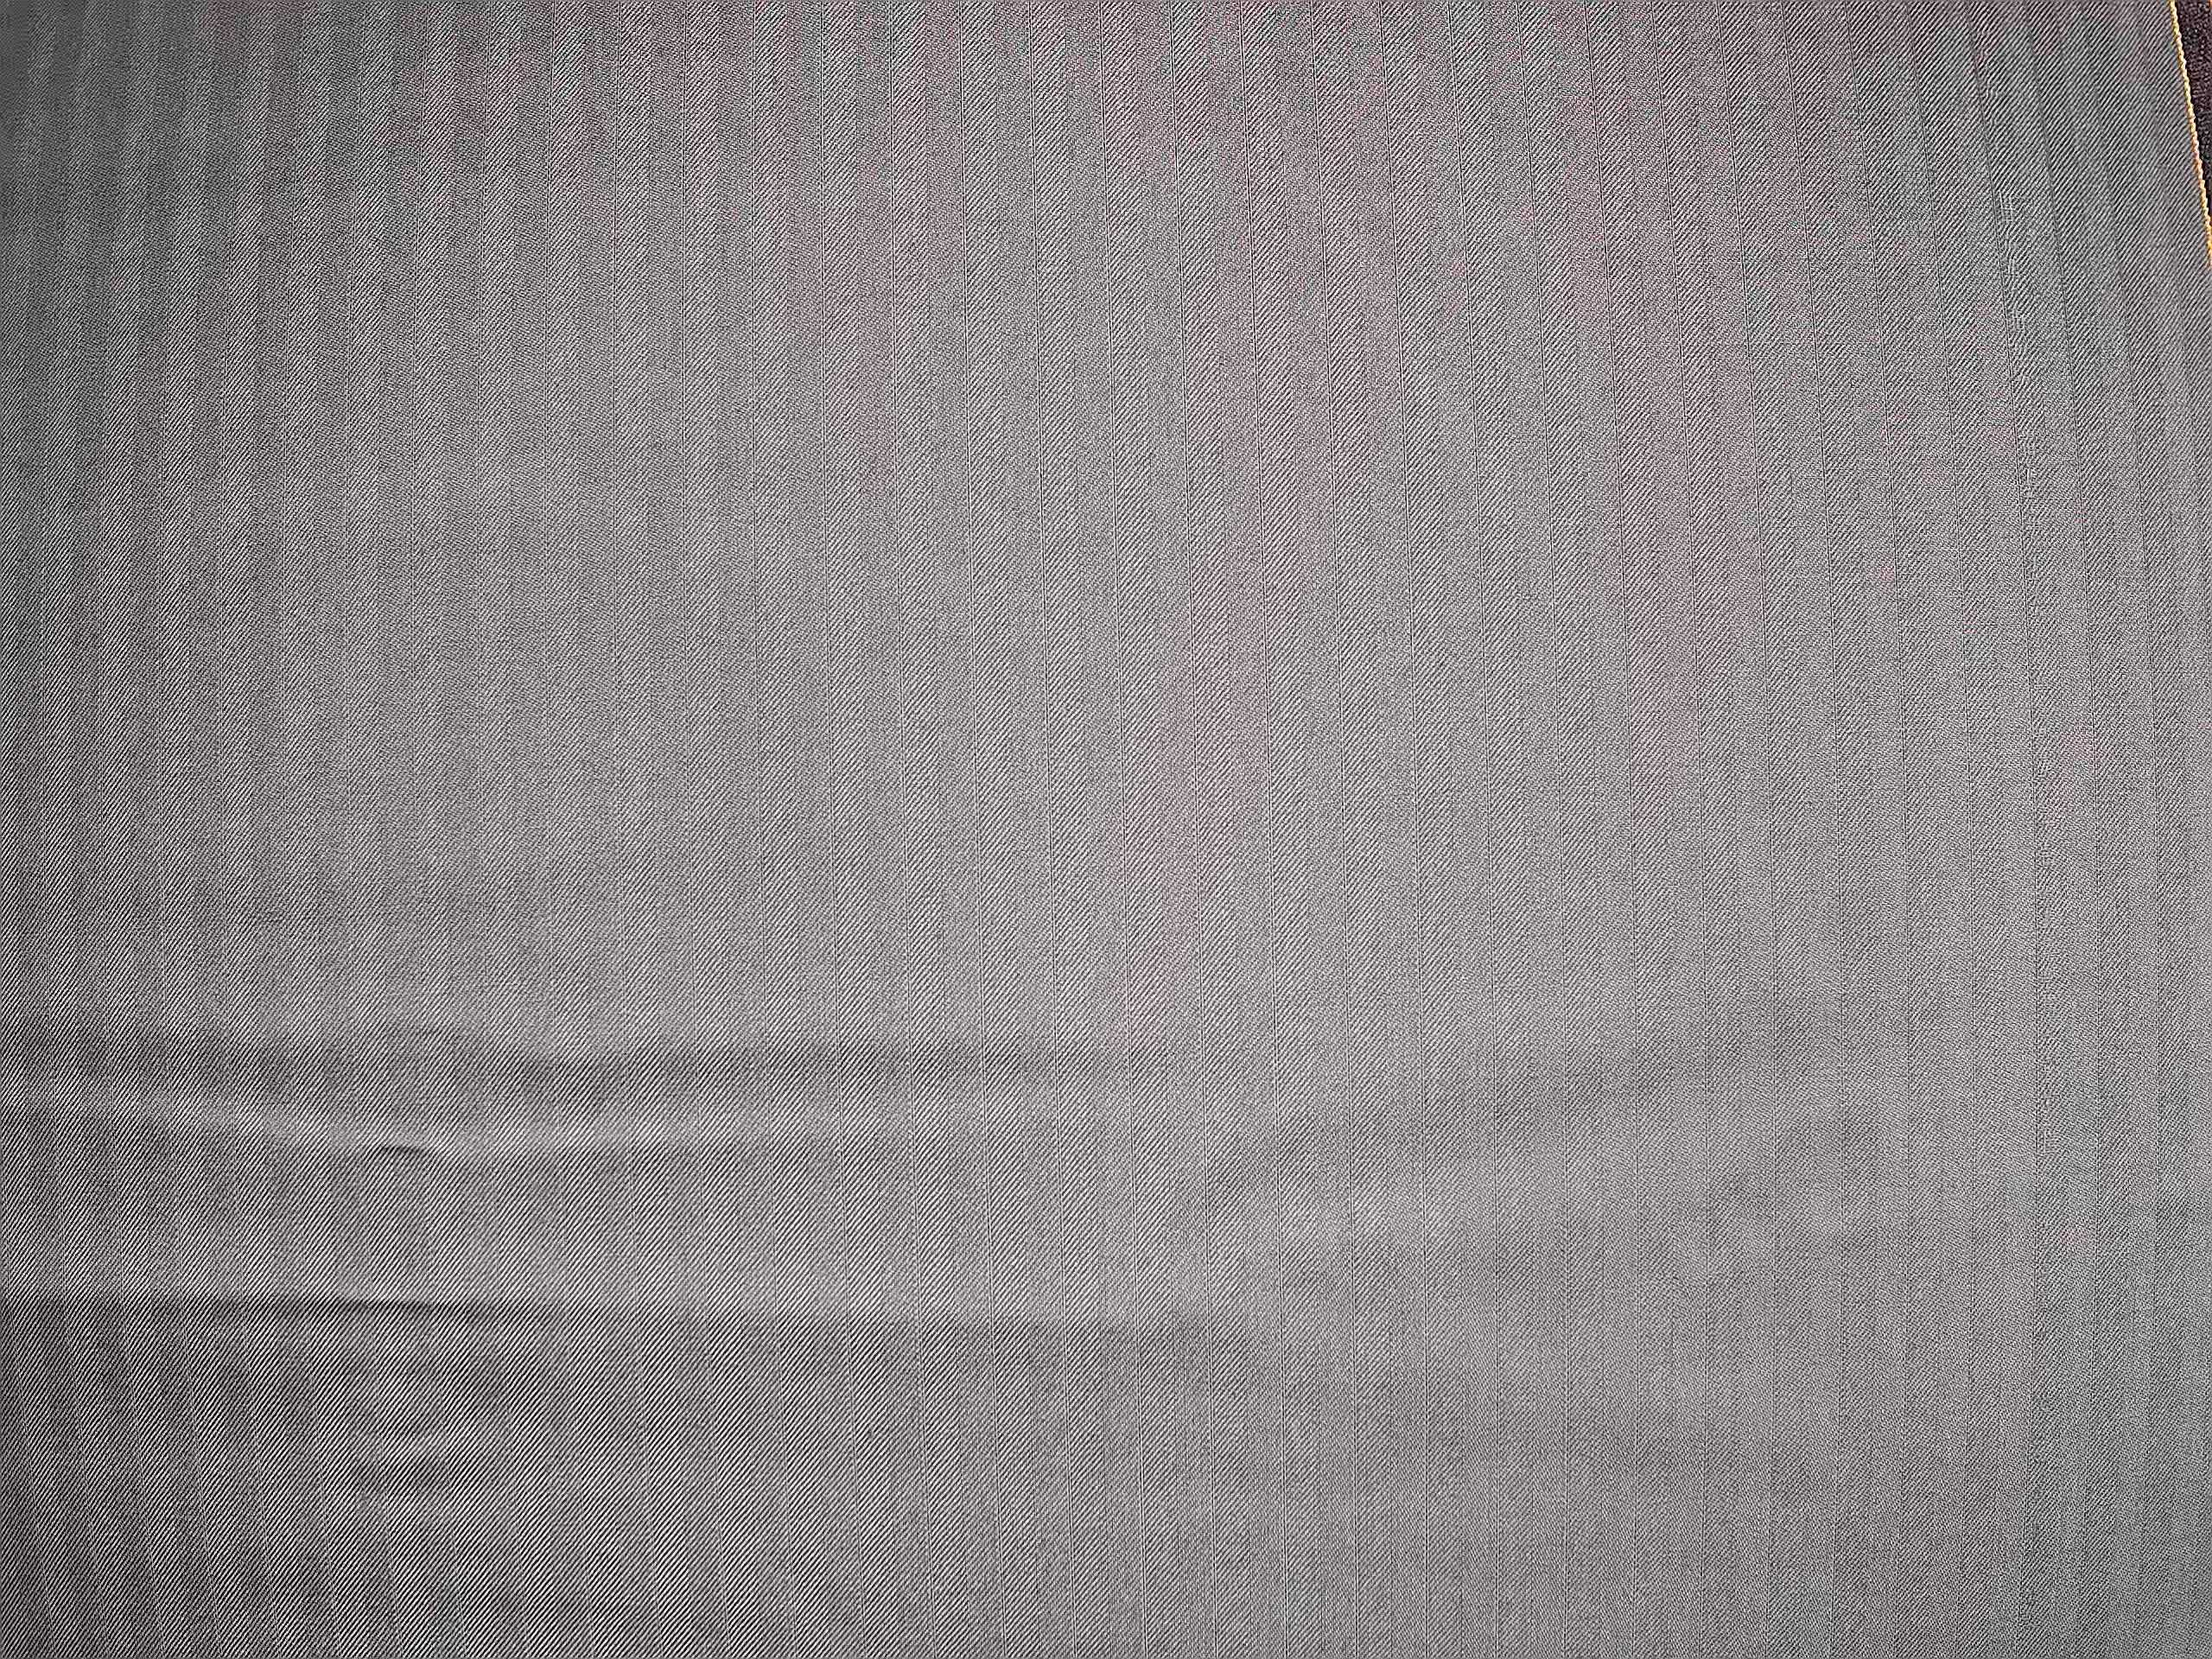jumps: (1967, 23, 2050, 626)
